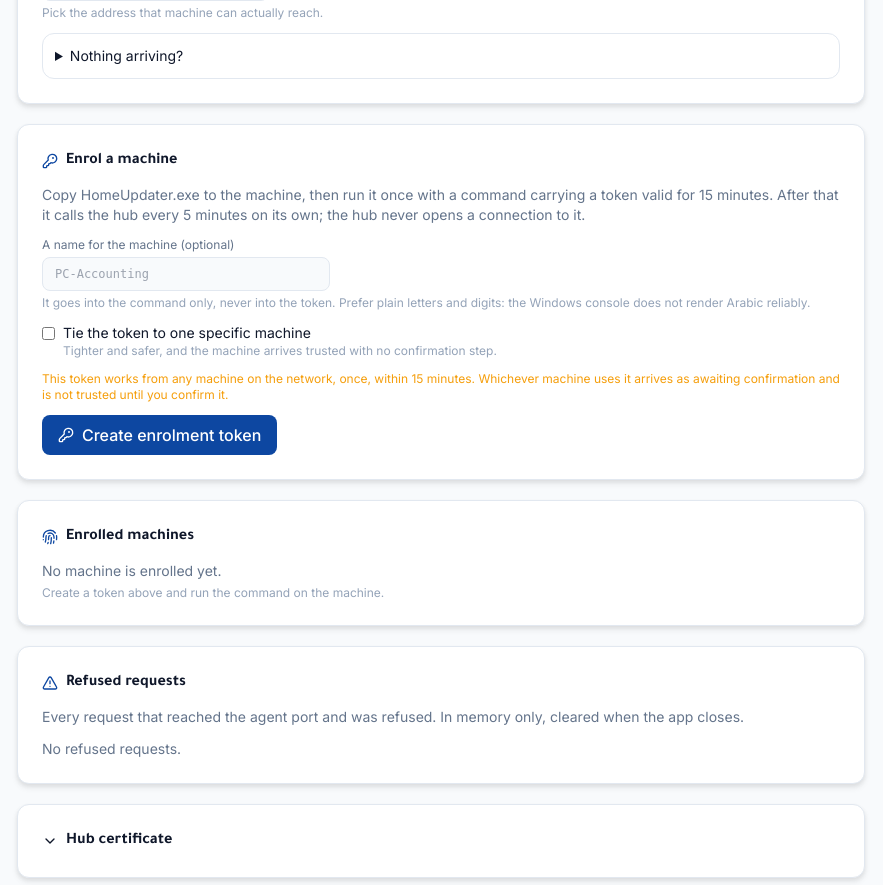
Scenario: minting a token › never puts the token in storage
The width and height of the screenshot is (883, 885).
(page scrolled)
Step 1. Click the button "Create enrolment token" → (160, 435), box [42,415,277,455]
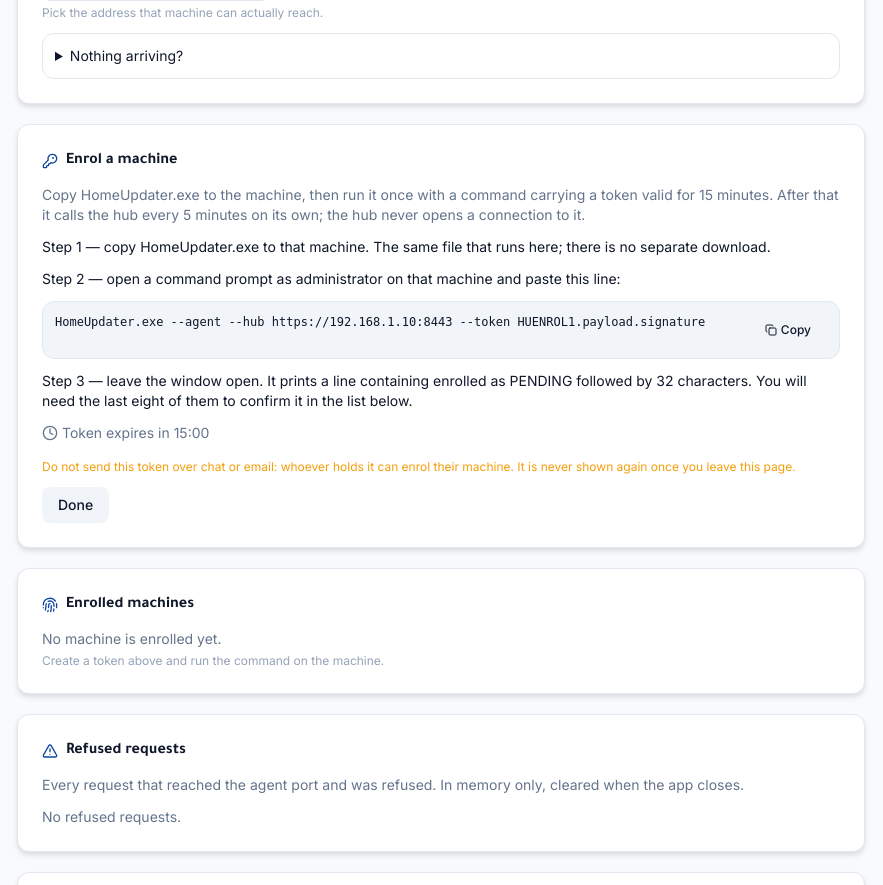
Expected: the text "HomeUpdater.exe --agent" is shown, [55,315,705,329]
